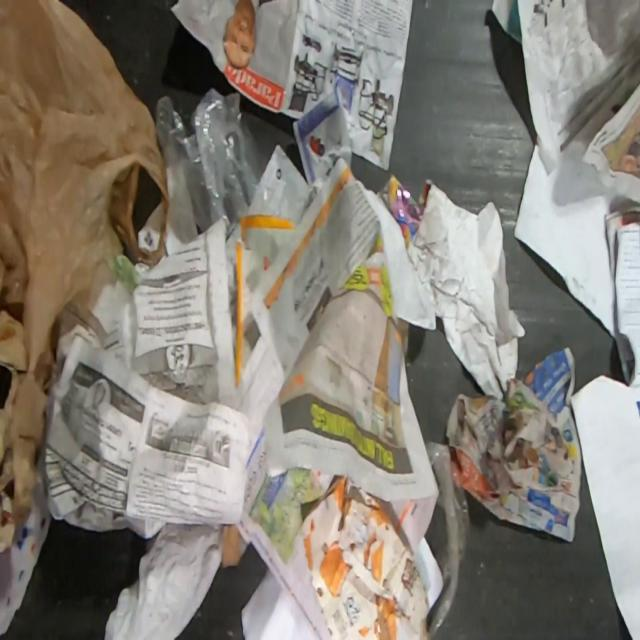cardboard: (0, 309, 49, 531)
soft_plastic: (0, 0, 171, 391), (155, 87, 270, 245), (426, 439, 470, 638)
